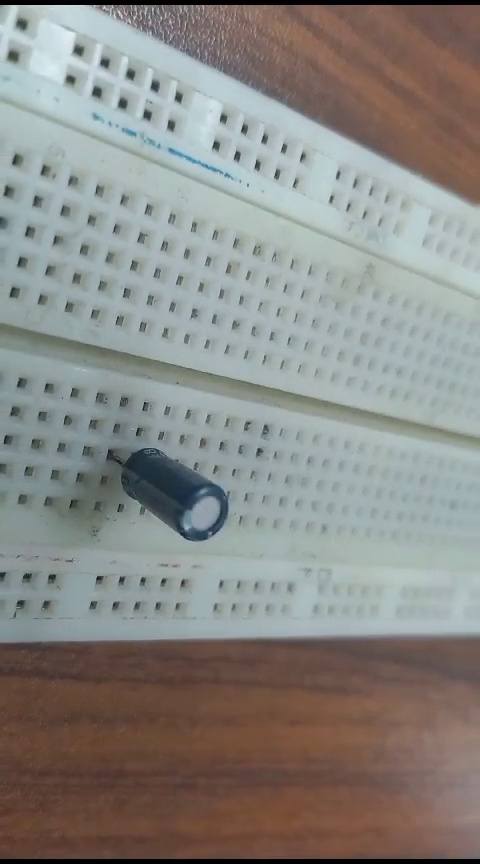capacitor: (112, 428, 235, 553)
